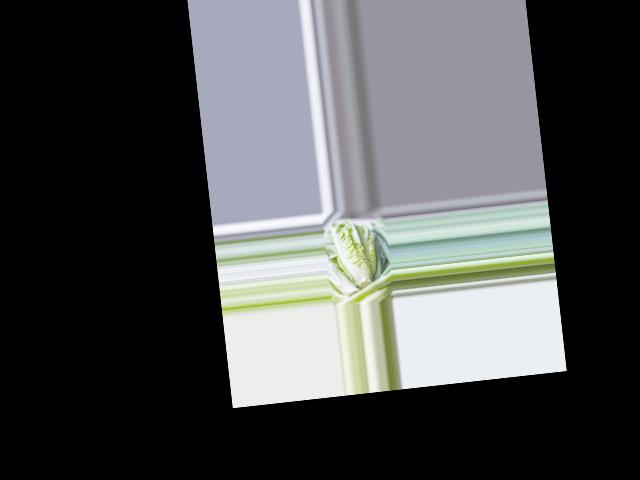lettuce: (329, 217, 379, 290)
